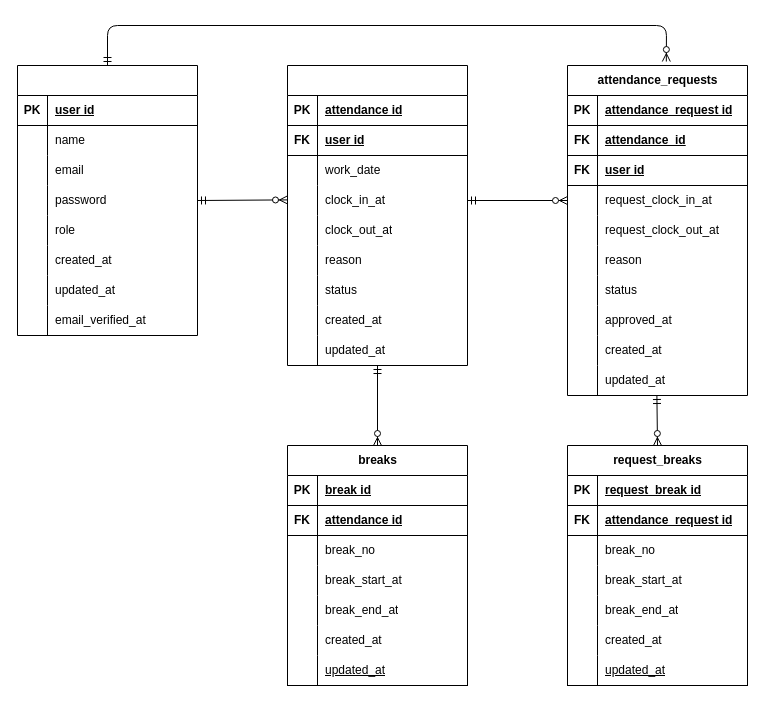
This 765x703 diagram has some shape labels left out. Here are the shapes that lost their labels. From the top down, the box of each, then its label:
(16, 64, 198, 336): users
(286, 64, 468, 366): attendances
